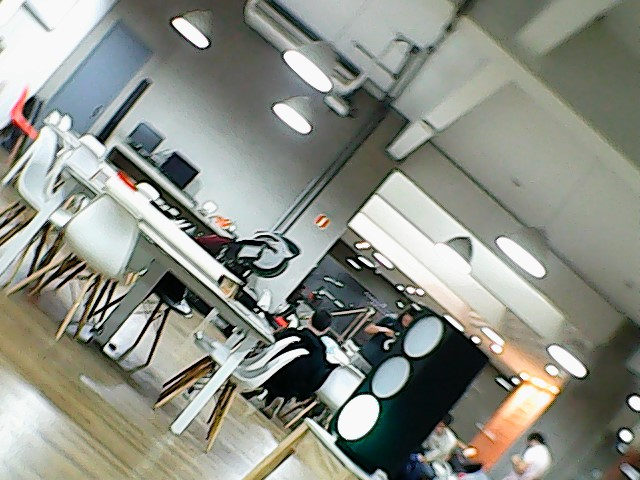verde: (325, 305, 495, 469)
